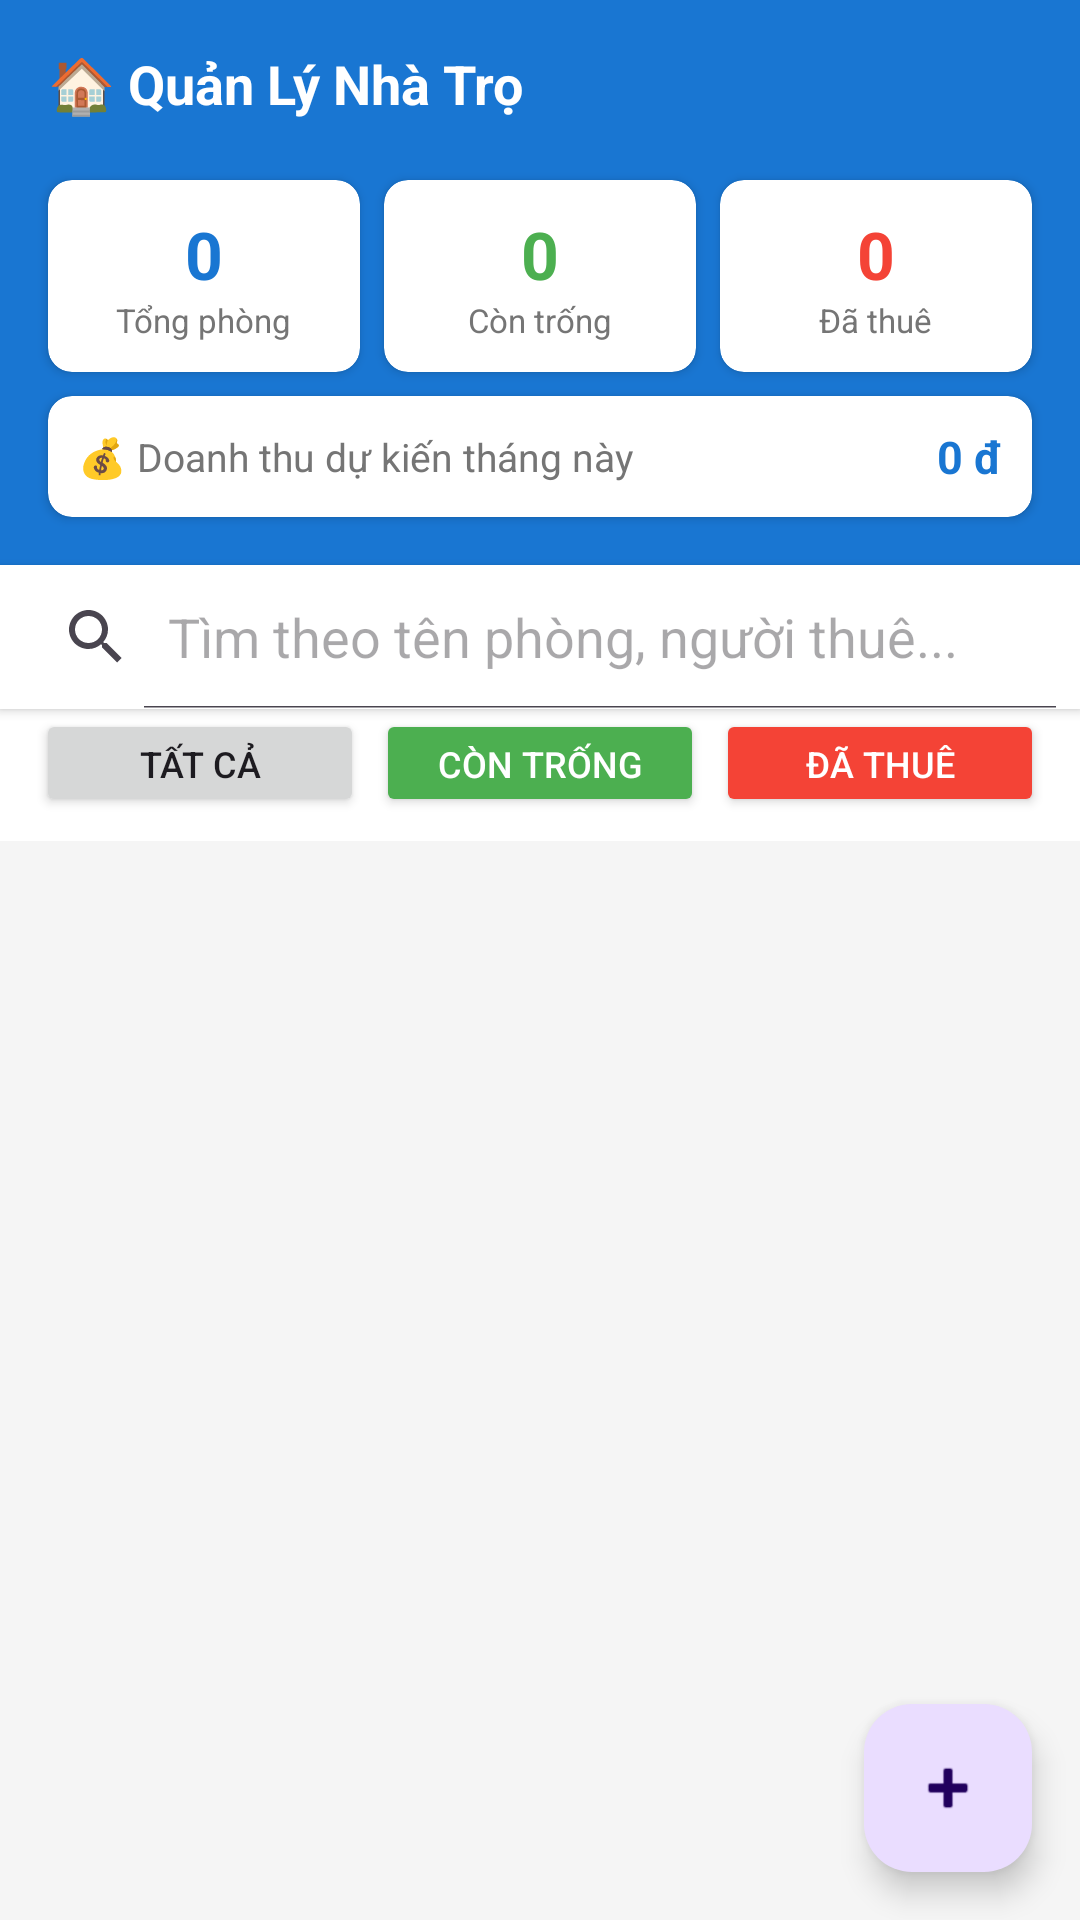

Icons on this 1080×1920 Android screen, each with the point to tap as point (x, y):
Thêm phòng: point (948, 1788)
